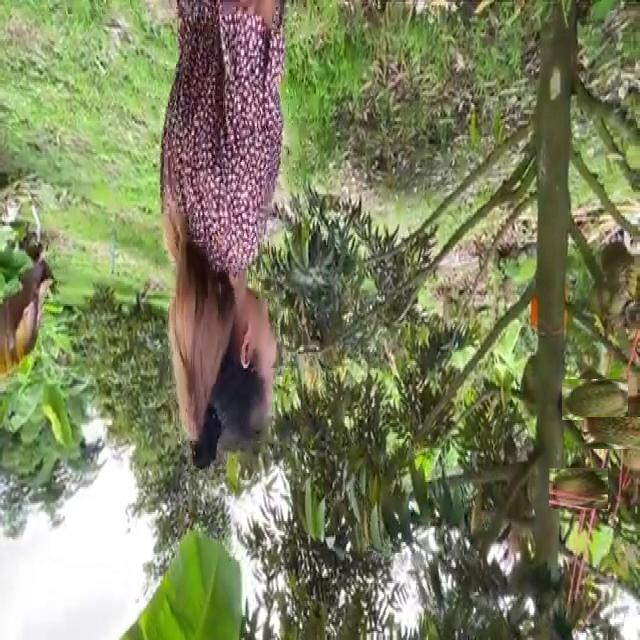durian: (567, 372, 622, 427), (595, 405, 640, 462), (554, 463, 604, 514)
